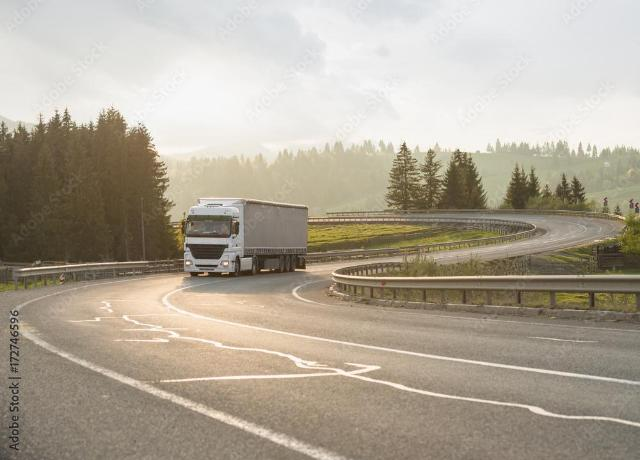truck: (178, 182, 320, 289)
